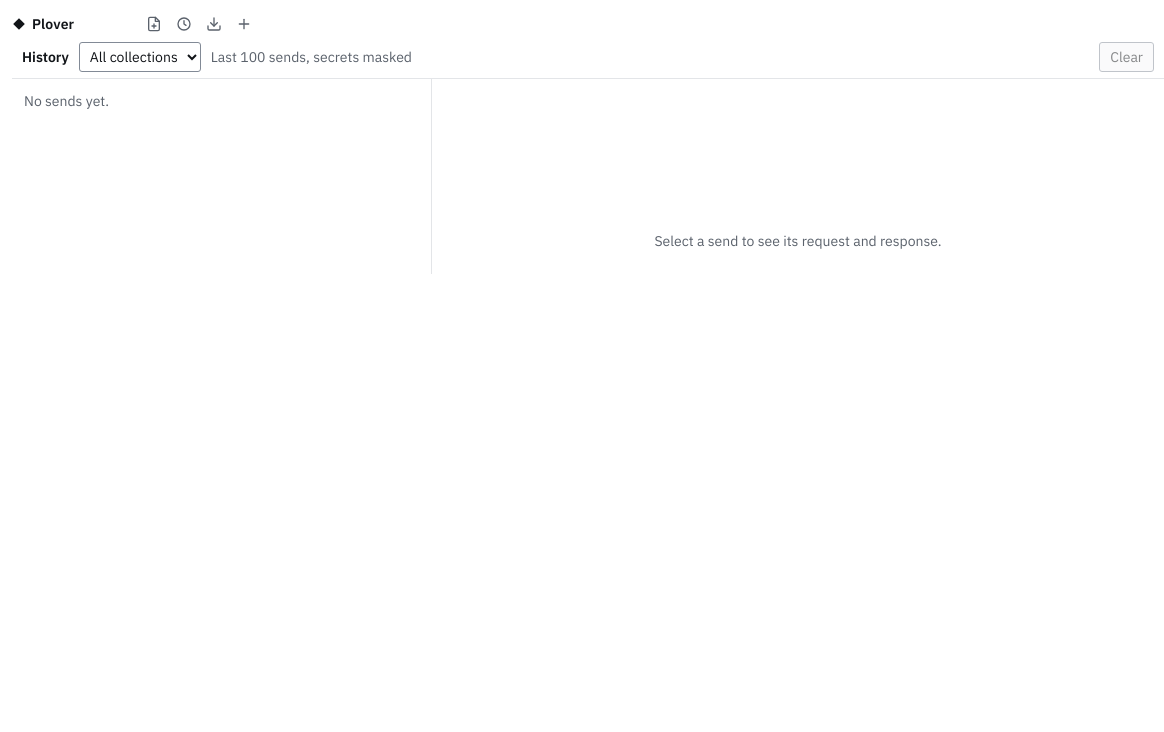
Test: history tab › selecting_row_shows_request_and_response_read_only
Click the button named "History" at (184,24), box [172, 12, 196, 36]
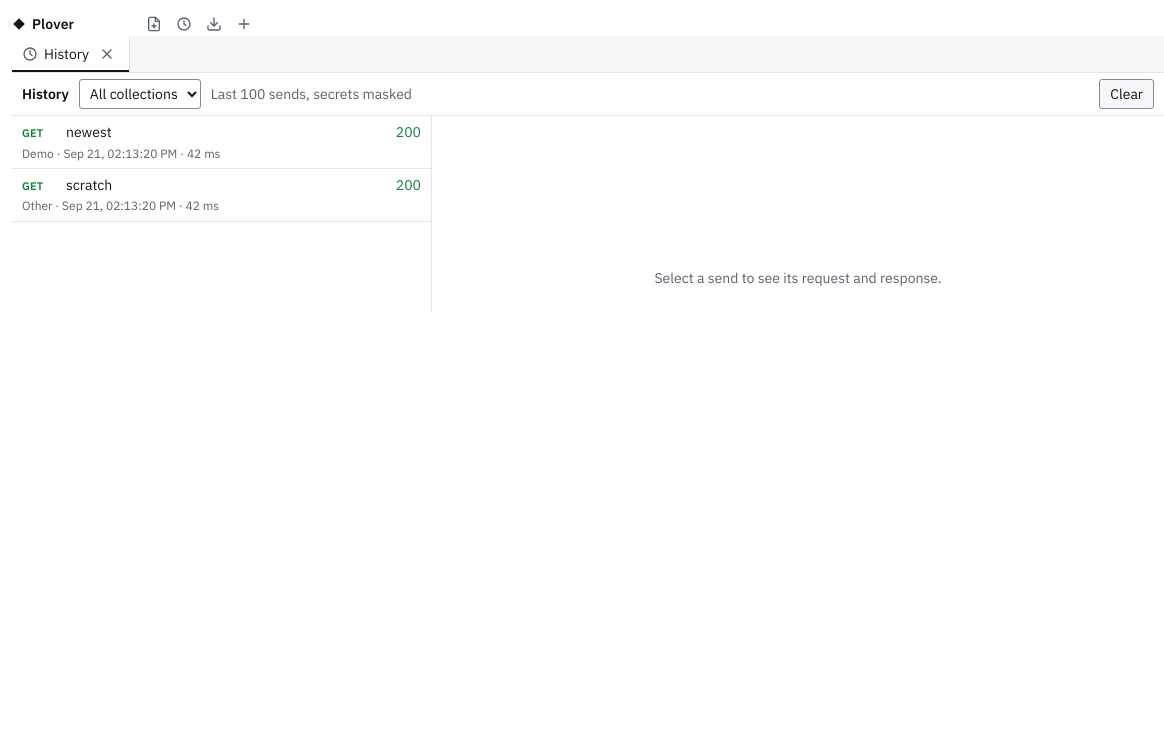
Click the option "GET newest 200 Demo · Sep 21, 02:13:20 PM · 42 ms" at (222,143), box [12, 116, 431, 169]
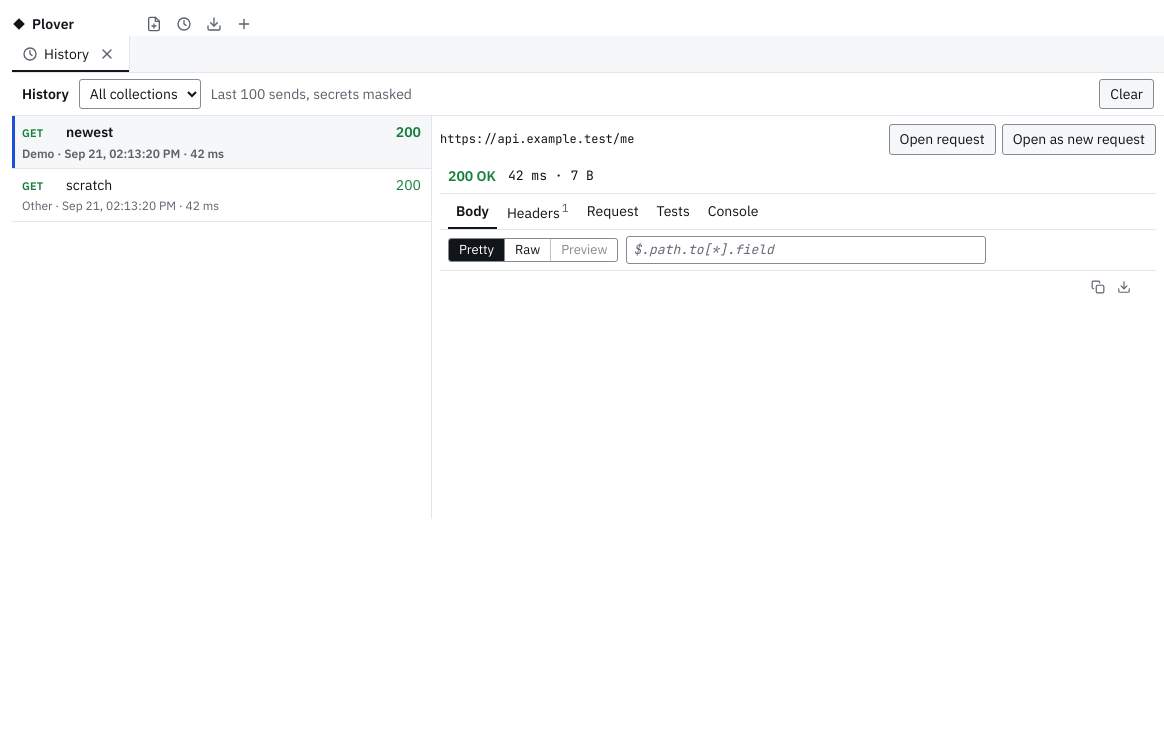
Now the text "200 OK" is shown, box [448, 166, 496, 187]
